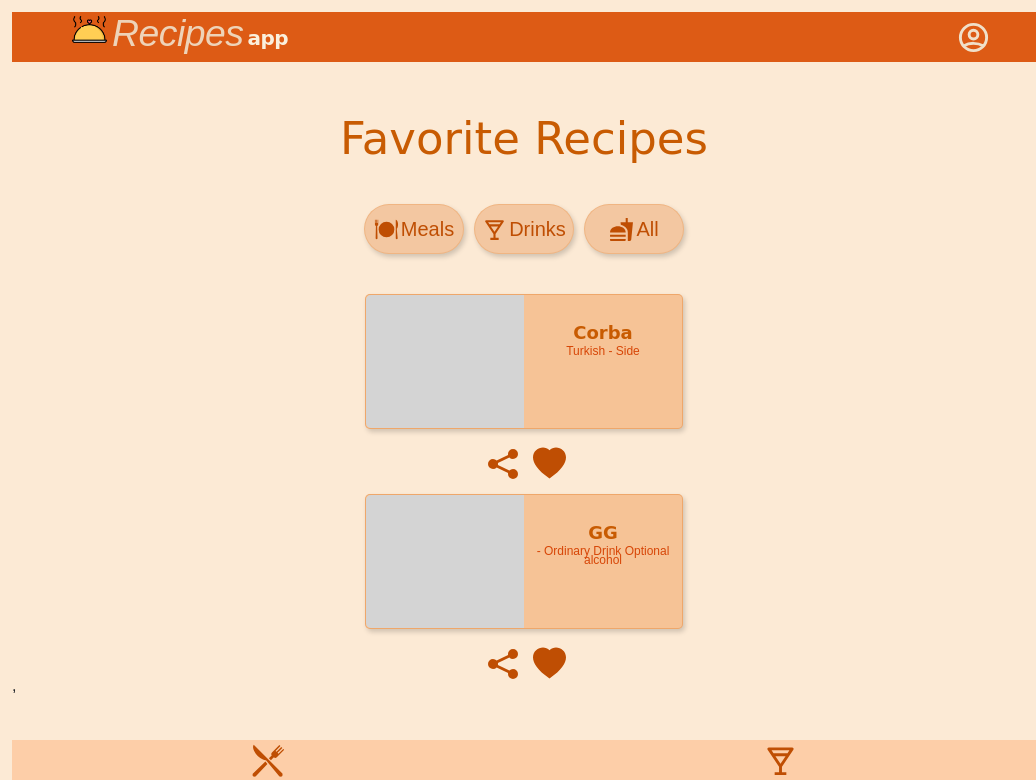
Test: Testa as bebidas › Testa se ao clicar no botão de desfavoritar o elemento some
The width and height of the screenshot is (1036, 780).
Click the button with test id "1-horizontal-favorite-btn". click: point(549, 689)
box: [532, 644, 566, 734]
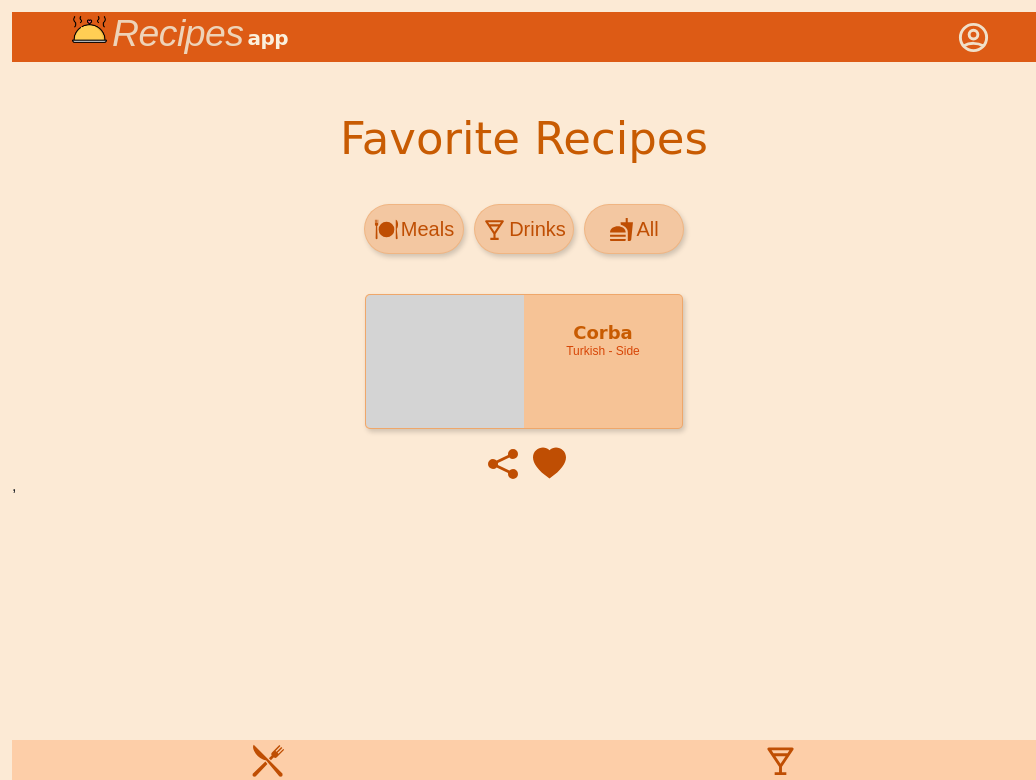
Expected: the text with test id "1-horizontal-top-text" is gone
